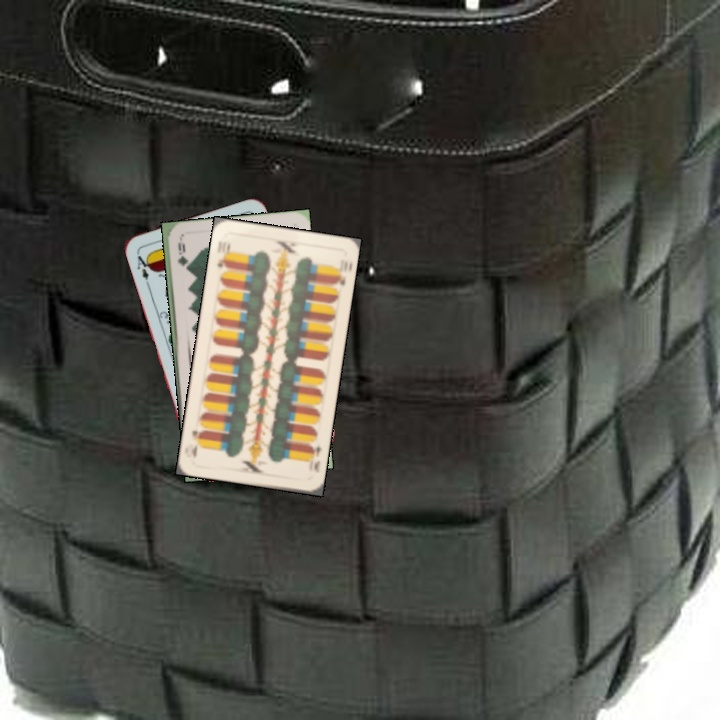E10: (213, 236, 233, 271), (304, 439, 323, 475)
EA: (132, 248, 154, 288)
G9: (174, 238, 188, 269)
